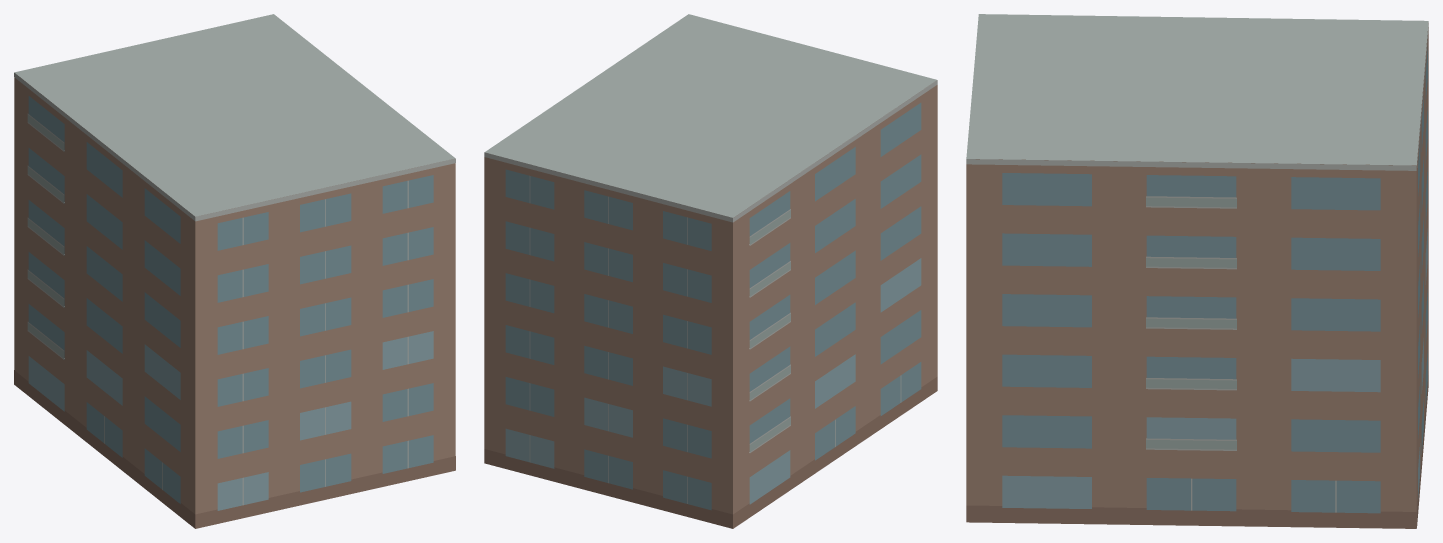
File: survey-upis-32664915.glb
3 views of the same model, side by side, from view 1: azimuth 30°, elevation 25°; view 2: azimuth 150°, elevation 25°; view 3: azimuth 270°, elevation 25° (orthographic). The views are drawn at different scales.
Visible parts, largest first — view 1: survey-upis-32664915.tmp; view 2: survey-upis-32664915.tmp; view 3: survey-upis-32664915.tmp.
Part boxes in pixels (bbox=[...]): survey-upis-32664915.tmp: bbox=[14, 14, 455, 528]; survey-upis-32664915.tmp: bbox=[484, 14, 937, 528]; survey-upis-32664915.tmp: bbox=[966, 14, 1428, 528].
Size of the model in its own units: 14.49 by 16.2 by 18.69.
